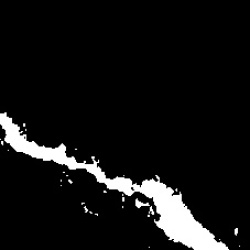crack: (0, 112, 229, 249)
